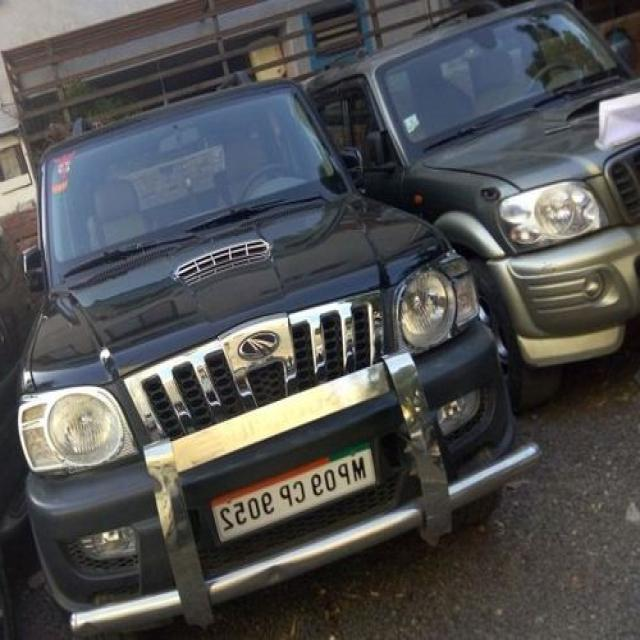number-plate: (186, 432, 384, 554)
